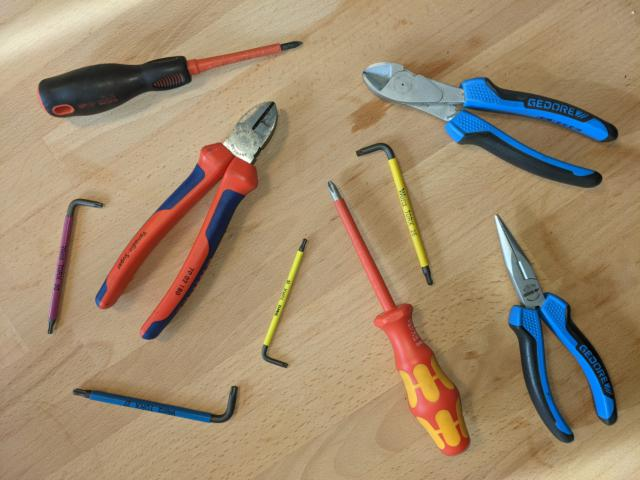Inbusschlüssel: (353, 138, 438, 290), (43, 195, 107, 339), (71, 381, 243, 428), (257, 235, 312, 372)
Schraubendreher: (323, 178, 473, 458), (36, 36, 308, 122)
Seitenschneider: (91, 97, 282, 343), (358, 58, 623, 191)
Zange: (489, 210, 621, 445)
